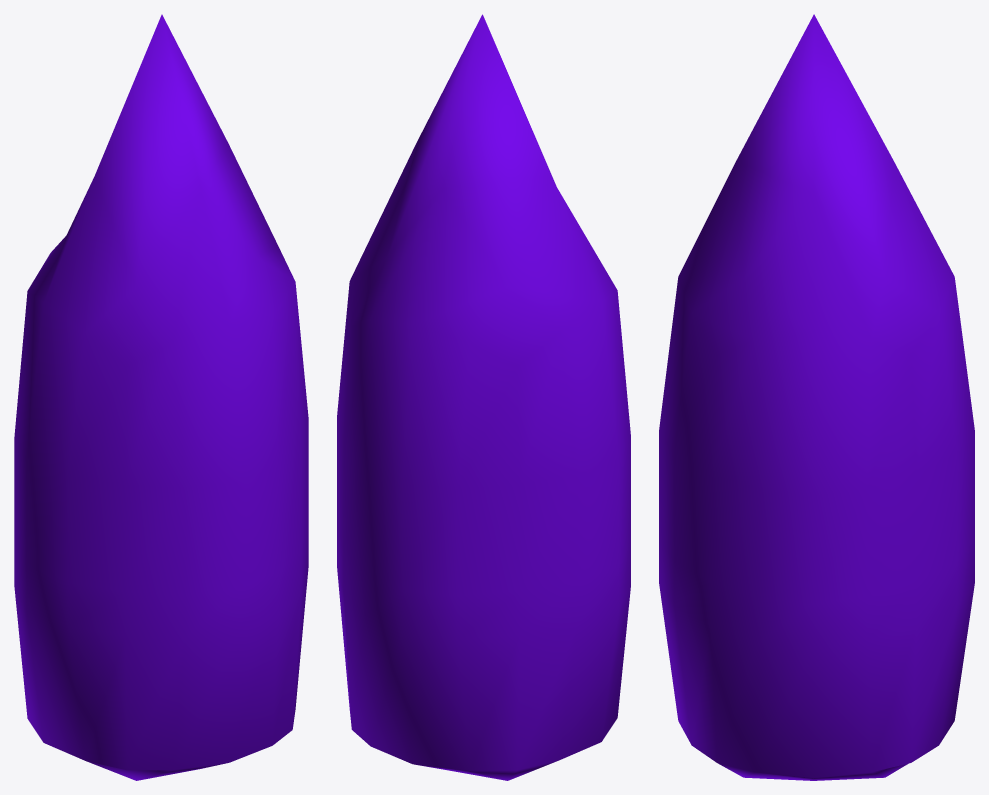
The model's file is singlecrystaltutorial.fbx.
3 views of the same model, side by side, from view 1: azimuth 30°, elevation 25°; view 2: azimuth 150°, elevation 25°; view 3: azimuth 270°, elevation 25° (orthographic).
Visible parts, largest first — view 1: crystal_singular; view 2: crystal_singular; view 3: crystal_singular.
Boxes of the visible parts, box(x1,y1,x2,y2) form: crystal_singular: box(14, 14, 308, 780); crystal_singular: box(337, 14, 630, 780); crystal_singular: box(659, 14, 974, 780).
Bounding box in the file's own units: 1.67 × 4.32 × 1.68.
